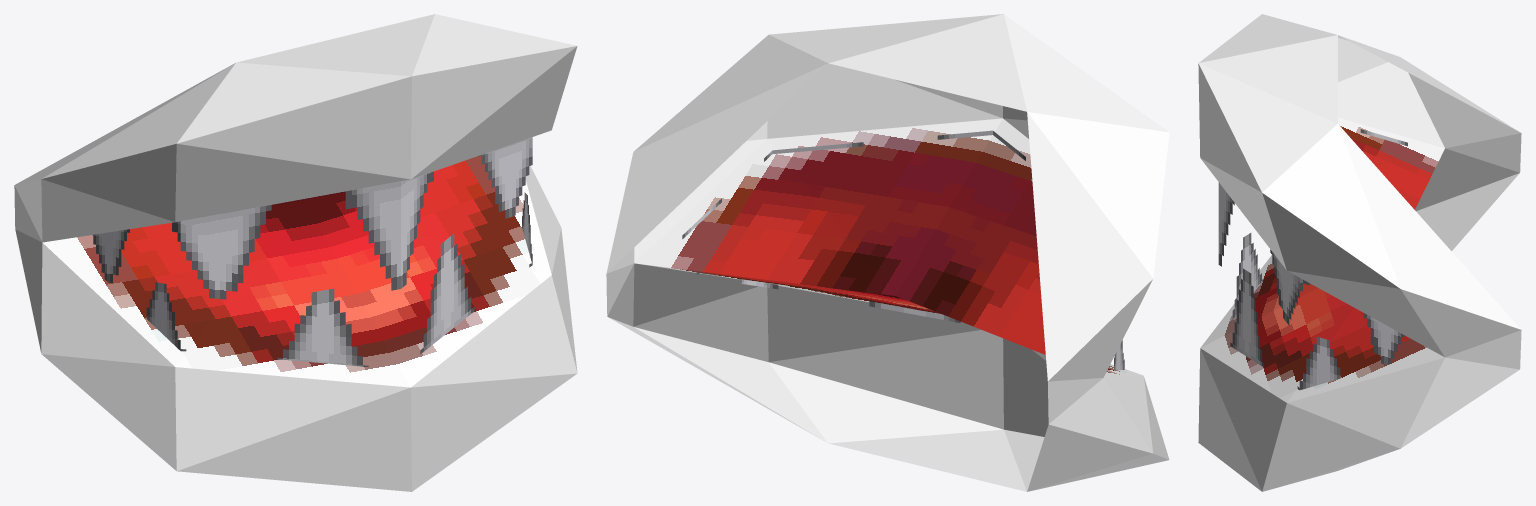
Rendered from mario_course-PakkunMouth.glb.
3 renders of one model, left to right at view 1: azimuth 30°, elevation 25°; view 2: azimuth 150°, elevation 25°; view 3: azimuth 270°, elevation 25°, orthographic. The views are drawn at different scales.
Visible parts, largest first — view 1: PakkunMouth; view 2: PakkunMouth; view 3: PakkunMouth.
Part boxes in pixels (x1,y1,x2,y2): PakkunMouth: (14, 14, 577, 491); PakkunMouth: (606, 14, 1169, 491); PakkunMouth: (1198, 14, 1521, 491).
Size of the model in its own units: 4.2 by 3.2 by 2.47.
2 materials, 2 textured.
